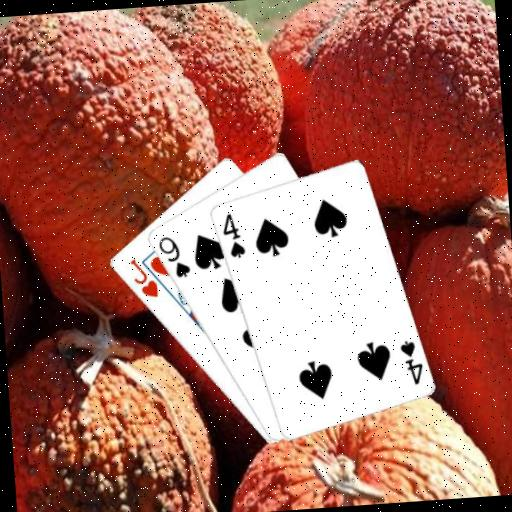4S: (217, 209, 247, 261), (396, 336, 426, 388)
9S: (154, 232, 192, 281)
JH: (125, 254, 160, 301)
